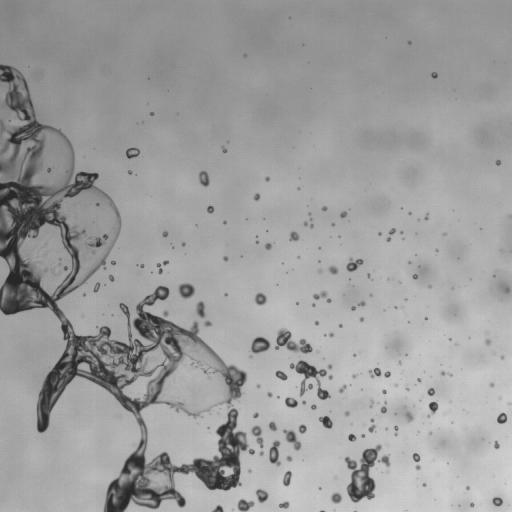droplet: (344, 444, 390, 502), (289, 360, 332, 400), (275, 328, 312, 353), (251, 336, 270, 353), (178, 283, 194, 299), (346, 258, 363, 271), (237, 499, 254, 511), (427, 401, 438, 417), (156, 260, 168, 274), (198, 171, 209, 186), (254, 292, 266, 305), (319, 416, 332, 428), (256, 489, 268, 502), (196, 301, 205, 317), (126, 147, 139, 158), (330, 492, 341, 503), (275, 370, 287, 380), (285, 397, 297, 407), (289, 231, 299, 241), (492, 496, 502, 506), (497, 413, 506, 423), (328, 266, 338, 274), (405, 411, 413, 421), (269, 421, 276, 431), (279, 501, 289, 508), (212, 505, 223, 511), (93, 283, 100, 292), (299, 424, 306, 433), (339, 384, 346, 392), (427, 387, 434, 395), (253, 193, 260, 200), (348, 434, 355, 441), (207, 205, 213, 213), (493, 441, 499, 449), (204, 321, 212, 326), (431, 72, 437, 78), (340, 211, 346, 217), (265, 243, 271, 249), (326, 332, 333, 337), (162, 231, 167, 237), (109, 275, 114, 281), (359, 301, 365, 306), (485, 339, 490, 345), (310, 404, 316, 409), (286, 456, 292, 461), (222, 147, 227, 152), (412, 274, 417, 279), (505, 287, 510, 292), (344, 411, 349, 416), (253, 412, 258, 417), (496, 160, 500, 165), (322, 206, 327, 210), (424, 215, 428, 220), (223, 256, 228, 260), (352, 374, 357, 378), (489, 383, 494, 387), (382, 389, 386, 394), (267, 392, 272, 396), (259, 450, 263, 455), (470, 502, 474, 507), (128, 170, 132, 174), (265, 177, 269, 181), (111, 261, 115, 265), (63, 266, 67, 270), (351, 306, 355, 310), (328, 375, 332, 379), (417, 378, 421, 382), (370, 401, 373, 406), (182, 242, 185, 246), (360, 317, 363, 321), (315, 321, 318, 325), (302, 400, 305, 404), (150, 112, 153, 115), (304, 222, 307, 225), (331, 223, 334, 226), (310, 224, 313, 227), (367, 274, 370, 277), (428, 285, 431, 288), (398, 361, 401, 364), (257, 384, 260, 387), (466, 486, 469, 489), (223, 221, 226, 223), (400, 231, 403, 233), (443, 233, 446, 235), (140, 265, 143, 267), (318, 270, 321, 272), (312, 304, 315, 306), (339, 324, 341, 327), (500, 356, 503, 358), (362, 434, 364, 437), (248, 470, 251, 472), (423, 483, 425, 486), (310, 218, 312, 220), (94, 220, 96, 222), (395, 384, 397, 386), (406, 388, 408, 390), (319, 487, 321, 489)
ligament: (0, 64, 254, 511), (283, 429, 301, 450), (269, 440, 280, 465), (251, 425, 263, 447), (368, 368, 390, 378), (313, 291, 330, 302), (412, 453, 420, 469), (283, 470, 291, 486), (386, 228, 395, 241), (368, 418, 375, 432), (380, 401, 387, 413), (440, 371, 451, 376), (394, 426, 398, 435), (321, 510, 324, 511)
